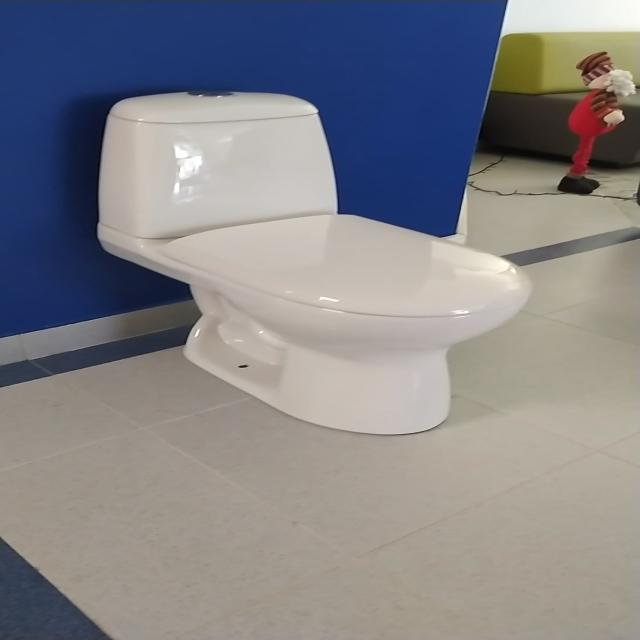toilet: (95, 84, 536, 444)
